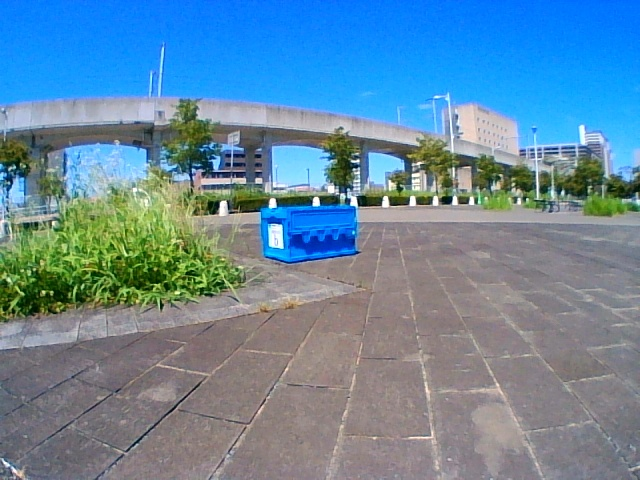blue_box: (262, 207, 358, 263)
tag_b: (269, 226, 283, 247)
